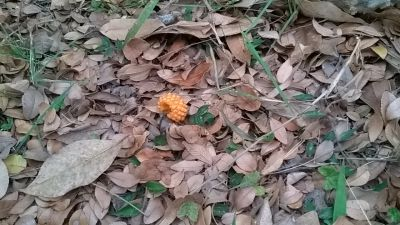eggs: (159, 92, 191, 122)
